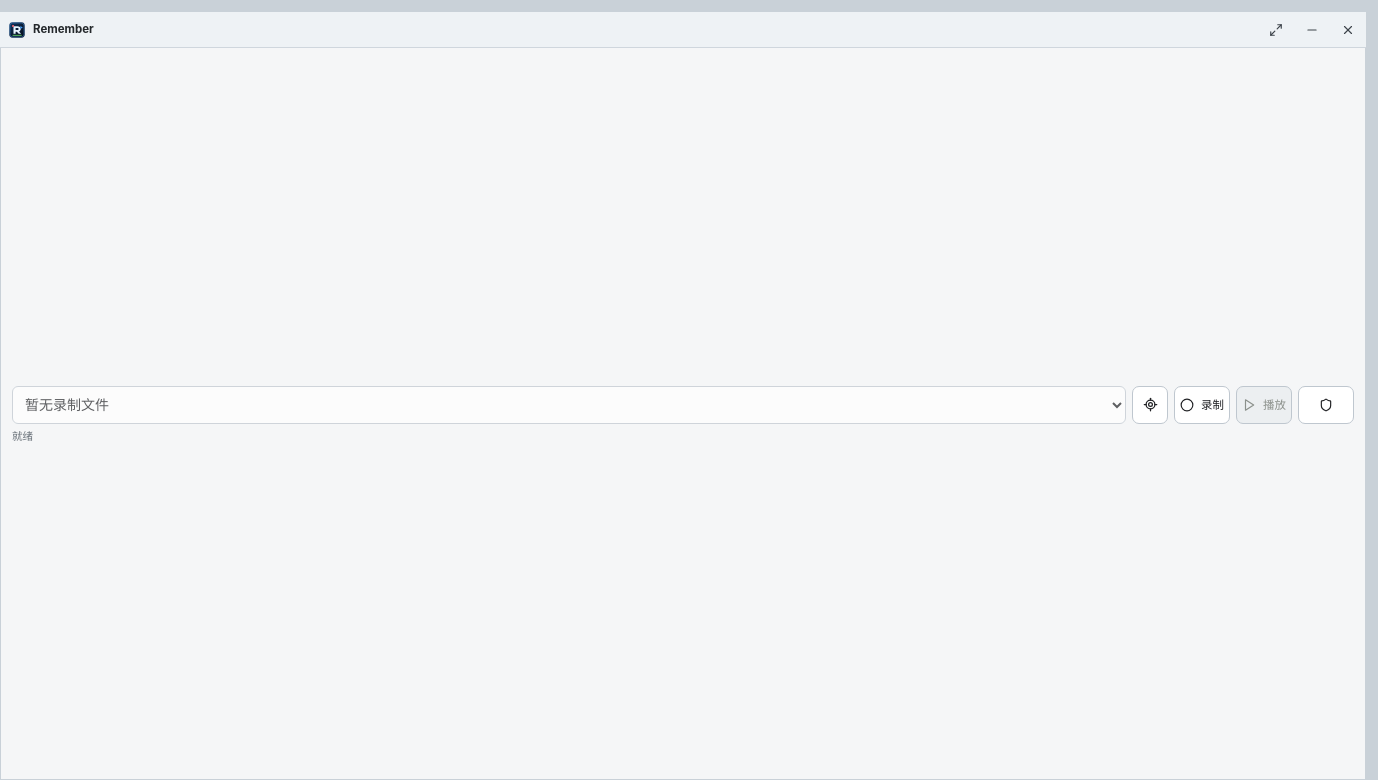
Scenario: App › restores the previous window mode when the resize animation fails
Click the button named "展开完整界面" at (1276, 30), box [1258,12,1294,47]
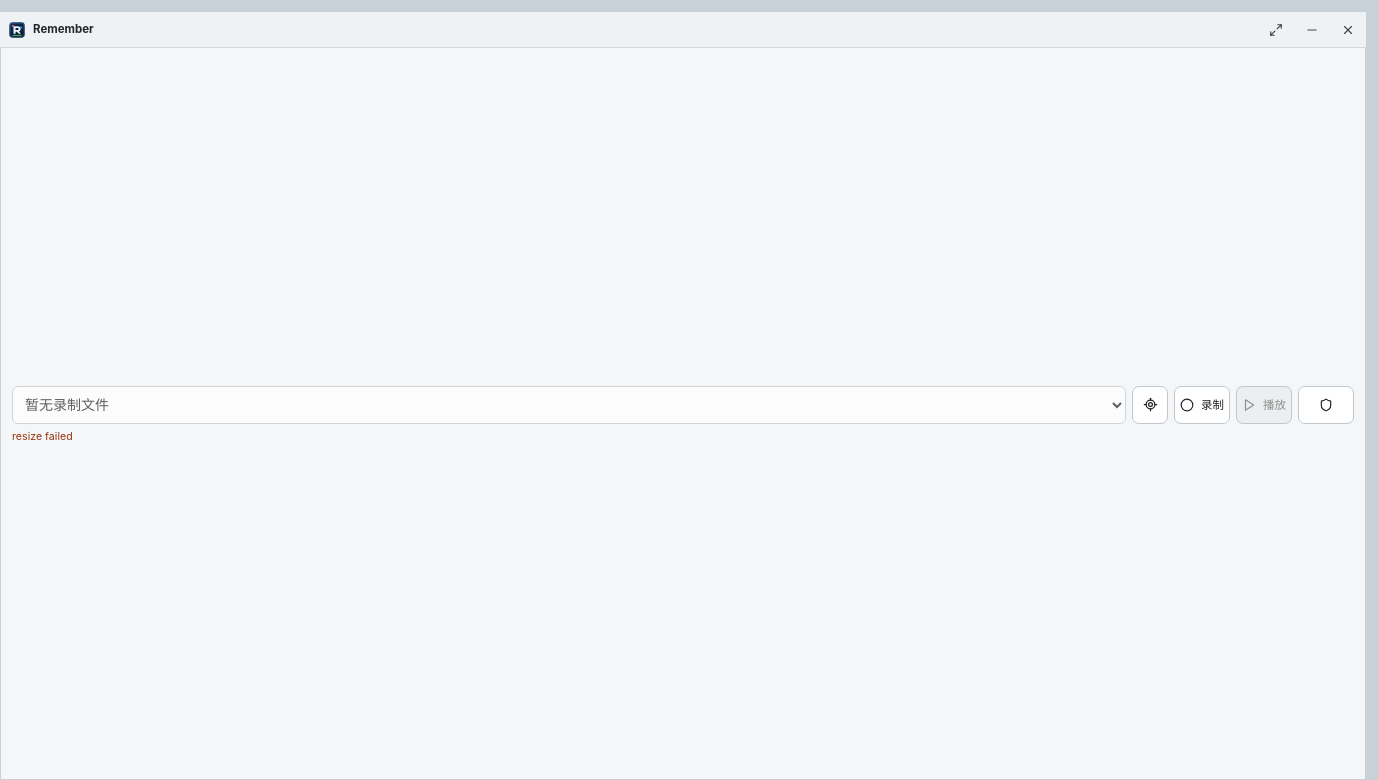
Now the text "resize failed" is shown, box [12,430,73,443]
